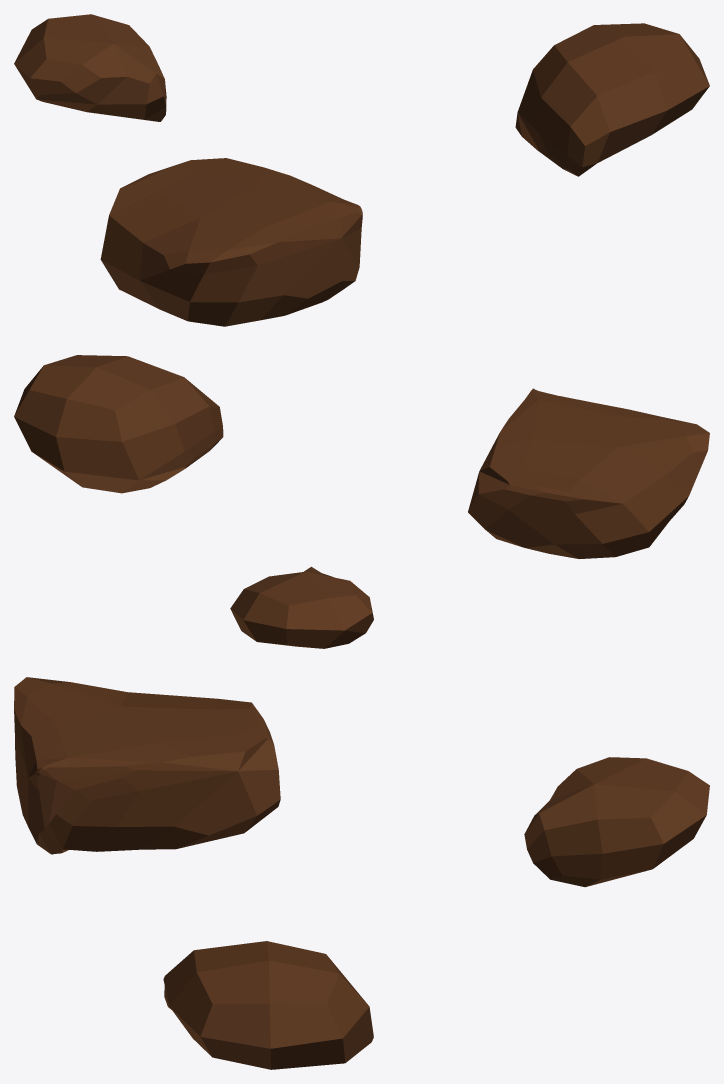
Rendered from Pedras07.fbx.
3 views of the same model, one above another, from view 1: azimuth 30°, elevation 25°; view 2: azimuth 150°, elevation 25°; view 3: azimuth 270°, elevation 25° (orthographic). The views are drawn at different scales.
Parts seen in each view (by area): view 1: Cube_cell.013, Cube_cell.009, Cube_cell.015; view 2: Cube_cell.013, Cube_cell.009, Cube_cell.015; view 3: Cube_cell.013, Cube_cell.009, Cube_cell.015.
Part boxes in pixels (x1,y1,x2,y2): Cube_cell.013: (100, 158, 362, 326); Cube_cell.009: (515, 23, 709, 176); Cube_cell.015: (14, 14, 166, 121); Cube_cell.013: (468, 388, 709, 558); Cube_cell.009: (14, 355, 223, 493); Cube_cell.015: (230, 566, 373, 648); Cube_cell.013: (14, 677, 280, 854); Cube_cell.009: (163, 941, 373, 1069); Cube_cell.015: (524, 757, 709, 887).
Size of the model in its own units: 2269 by 1911 by 369.
